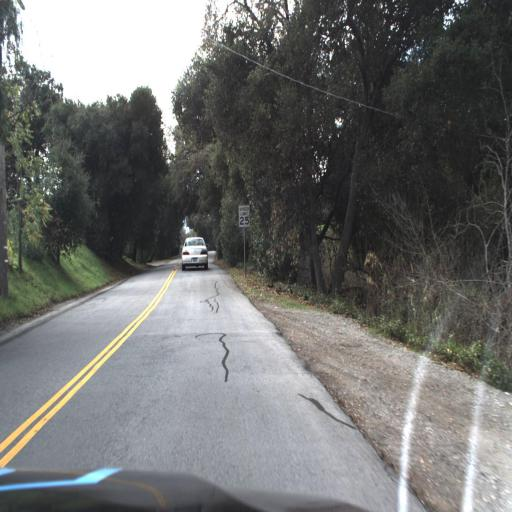car: (176, 230, 215, 278)
